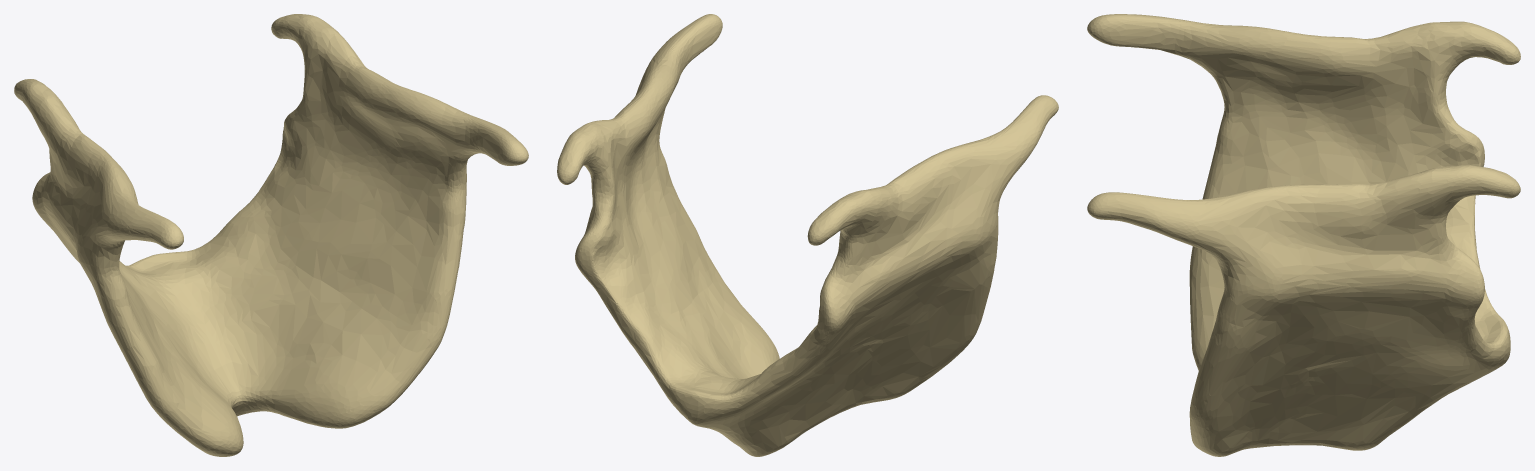
The model's file is thyroide.glb.
3 views of the same model, side by side, from view 1: azimuth 30°, elevation 25°; view 2: azimuth 150°, elevation 25°; view 3: azimuth 270°, elevation 25° (orthographic). The views are drawn at different scales.
Parts seen in each view (by area): view 1: world; view 2: world; view 3: world.
Boxes of the visible parts, box(x1,y1,x2,y2) form: world: box(14, 14, 528, 456); world: box(557, 14, 1058, 456); world: box(1087, 14, 1520, 456).
Bounding box in the file's own units: 2 × 1.65 × 1.83.
